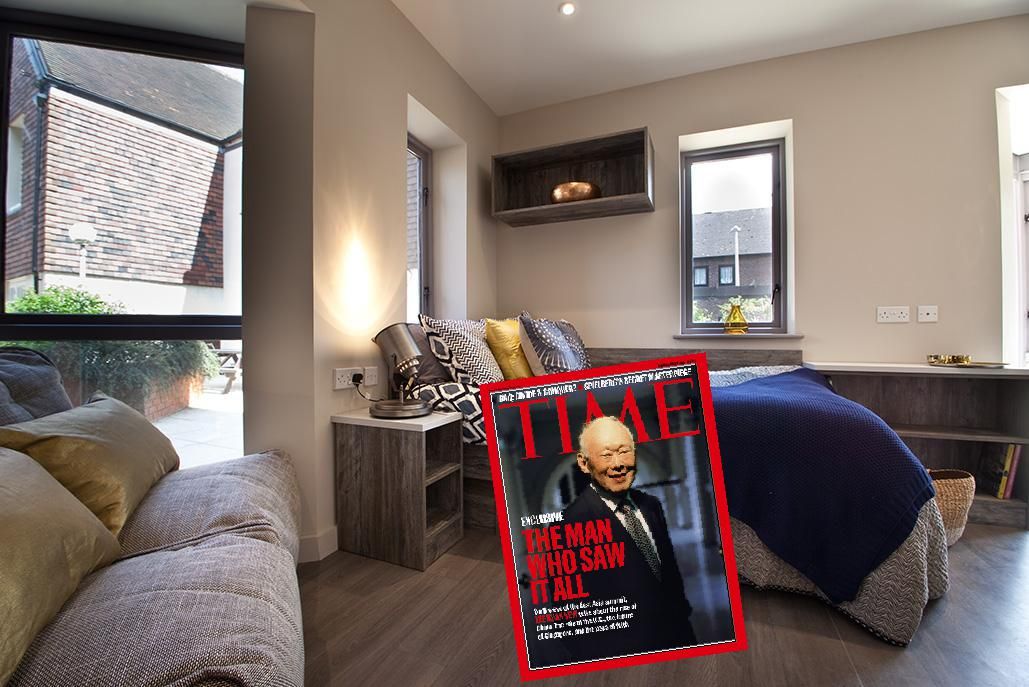times: (478, 351, 750, 687)
